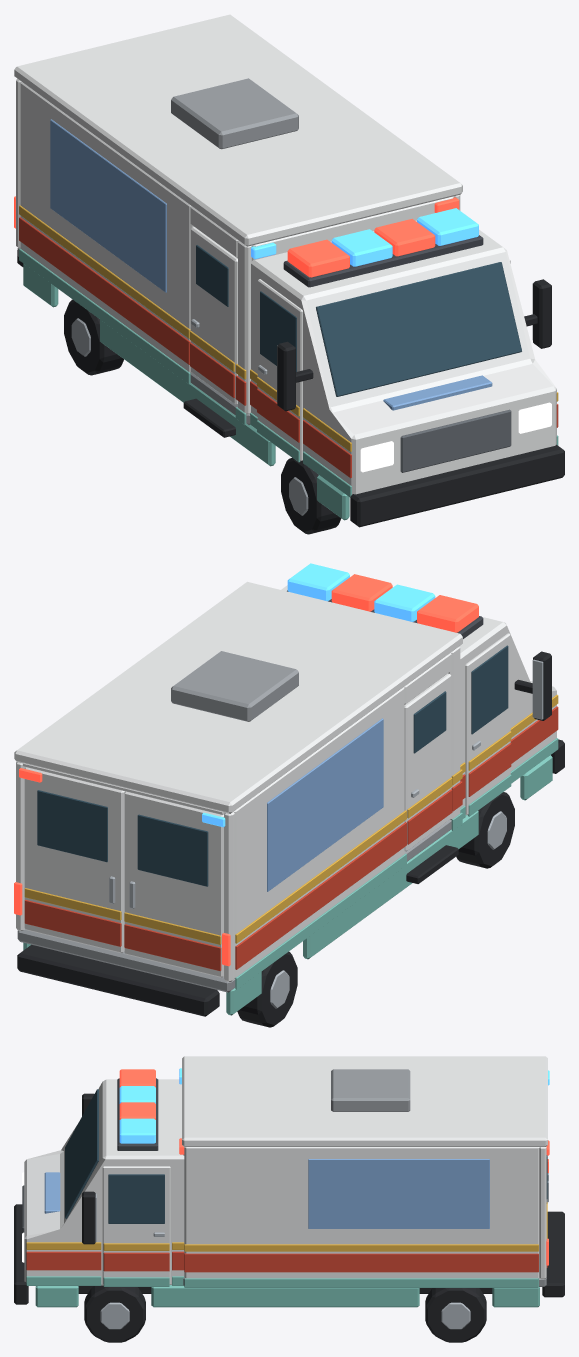
Rendered from low-poly-ambulance.glb.
3 renders of one model, top to bottom at view 1: azimuth 30°, elevation 25°; view 2: azimuth 150°, elevation 25°; view 3: azimuth 270°, elevation 25°, orthographic. The views are drawn at different scales.
Parts seen in each view (by area): view 1: Body, Sign_Side_R, LightBar, Door_Side, Door_Cab_R, Wheel_FR, Wheel_RR, CabWindow_R, Sign_Hood, SideWindow, Mirror_R, Mirror_L (+2 smaller); view 2: Body, Sign_Side_R, Door_Rear_L, Door_Rear_R, LightBar, Door_Side, RearWindow_R, RearWindow_L, Door_Cab_R, CabWindow_R, Stripe_Red_Rear_L, Stripe_Red_Rear_R (+11 smaller); view 3: Body, Sign_Side_L, LightBar, Door_Cab_L, CabWindow_L, Wheel_FL, Wheel_RL, Stripe_Red_CabDoor_L, Mirror_L, Sign_Hood, Hub_FL, Hub_RL (+2 smaller).
Part boxes in pixels (<box>): Body: <box>14,14,564,527</box>; Sign_Side_R: <box>50,119,166,292</box>; LightBar: <box>283,208,483,287</box>; Door_Side: <box>191,227,237,404</box>; Door_Cab_R: <box>257,279,302,460</box>; Wheel_FR: <box>281,458,341,534</box>; Wheel_RR: <box>64,299,123,375</box>; CabWindow_R: <box>260,291,296,371</box>; Sign_Hood: <box>383,375,492,410</box>; SideWindow: <box>196,245,228,306</box>; Mirror_R: <box>277,341,295,411</box>; Mirror_L: <box>533,279,551,348</box>; Body: <box>14,581,564,1016</box>; Sign_Side_R: <box>267,718,383,891</box>; Door_Rear_L: <box>24,767,125,953</box>; Door_Rear_R: <box>124,791,223,977</box>; LightBar: <box>287,563,483,638</box>; Door_Side: <box>404,673,451,851</box>; RearWindow_R: <box>137,814,208,886</box>; RearWindow_L: <box>37,790,107,862</box>; Door_Cab_R: <box>465,633,510,815</box>; CabWindow_R: <box>471,645,508,734</box>; Stripe_Red_Rear_L: <box>24,899,121,946</box>; Stripe_Red_Rear_R: <box>124,924,221,970</box>; Body: <box>14,1056,564,1307</box>; Sign_Side_L: <box>308,1159,489,1228</box>; LightBar: <box>117,1069,158,1150</box>; Door_Cab_L: <box>102,1166,170,1284</box>; CabWindow_L: <box>108,1174,164,1223</box>; Wheel_FL: <box>84,1285,145,1342</box>; Wheel_RL: <box>425,1288,486,1342</box>; Stripe_Red_CabDoor_L: <box>103,1252,169,1271</box>; Mirror_L: <box>82,1191,95,1244</box>; Sign_Hood: <box>44,1172,60,1213</box>; Hub_FL: <box>100,1302,129,1329</box>; Hub_RL: <box>441,1302,470,1329</box>.
Size of the model in its own units: 10.7 by 10.8 by 24.25.
